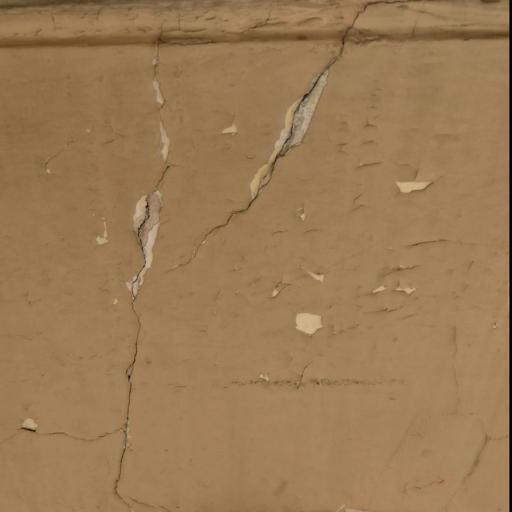major_crack: (104, 0, 386, 512)
